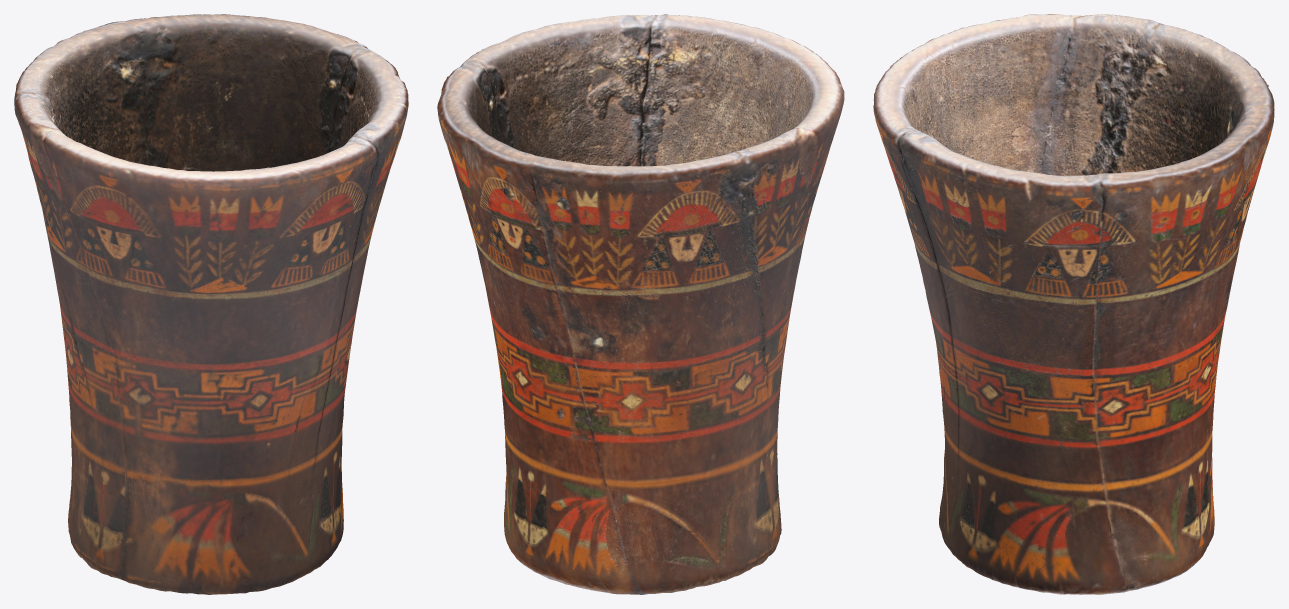
The model's file is Kero.glb.
The picture shows the model from 3 angles, left to right: view 1: azimuth 30°, elevation 25°; view 2: azimuth 150°, elevation 25°; view 3: azimuth 270°, elevation 25°; orthographic projection.
Visible parts, largest first — view 1: Object_2; view 2: Object_2; view 3: Object_2.
Boxes of the visible parts, x1=… form: Object_2: x1=14, y1=14, x2=408, y2=594; Object_2: x1=437, y1=14, x2=844, y2=594; Object_2: x1=873, y1=14, x2=1274, y2=594.
Bounding box in the file's own units: 11.16 × 14.02 × 11.23.
Materials: 1 (1 with a texture image).
